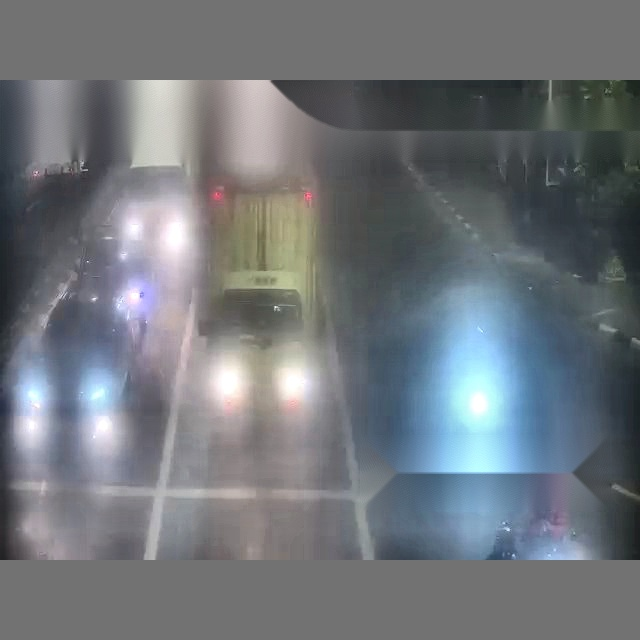Bis: (191, 68, 639, 557)
